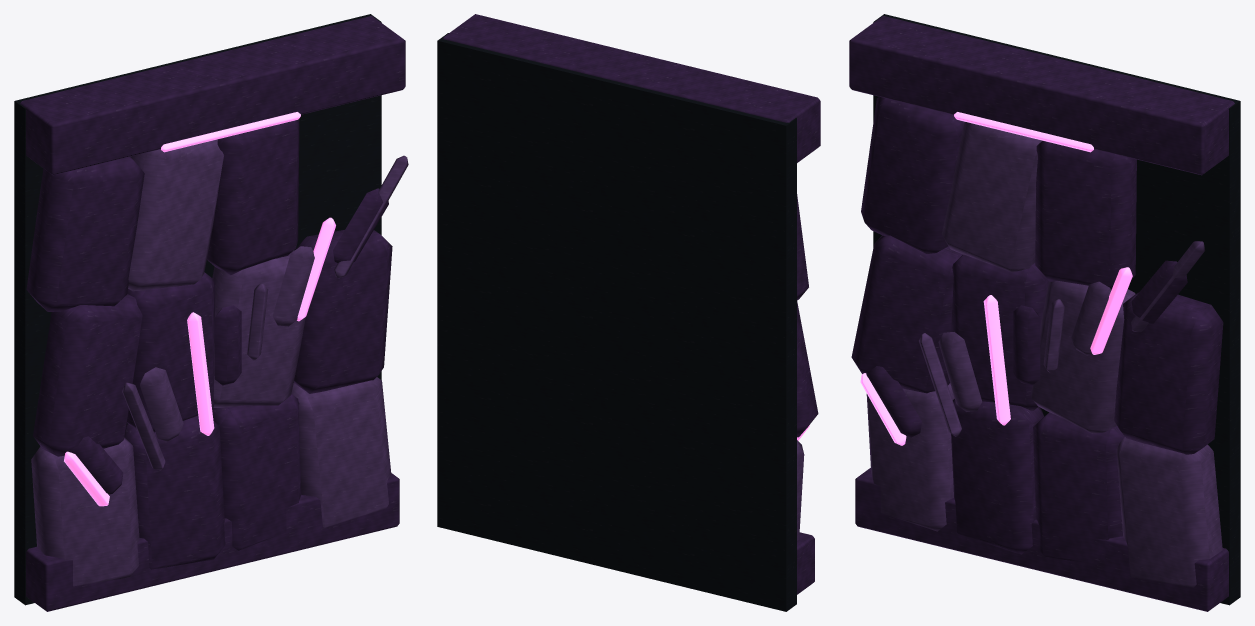
File: riftcore_nexus_room.glb
3 views of the same model, side by side, from view 1: azimuth 30°, elevation 25°; view 2: azimuth 150°, elevation 25°; view 3: azimuth 330°, elevation 25° (orthographic). The views are drawn at different scales.
Parts seen in each view (by area): view 1: riftcore_nexus_room - riftcore_nexus panels, riftcore_nexus_room - riftcore_nexus trim, riftcore_nexus_room - Recessed iron, riftcore_nexus_room - riftcore_nexus accents; view 2: riftcore_nexus_room - Recessed iron, riftcore_nexus_room - riftcore_nexus panels; view 3: riftcore_nexus_room - riftcore_nexus panels, riftcore_nexus_room - riftcore_nexus trim, riftcore_nexus_room - Recessed iron, riftcore_nexus_room - riftcore_nexus accents.
Part boxes in pixels (x1,y1,x2,y2): riftcore_nexus_room - riftcore_nexus panels: (20, 15, 405, 611); riftcore_nexus_room - riftcore_nexus trim: (31, 139, 408, 586); riftcore_nexus_room - Recessed iron: (14, 14, 381, 605); riftcore_nexus_room - riftcore_nexus accents: (64, 112, 335, 506); riftcore_nexus_room - Recessed iron: (437, 33, 796, 611); riftcore_nexus_room - riftcore_nexus panels: (443, 14, 820, 594); riftcore_nexus_room - riftcore_nexus panels: (849, 15, 1234, 611); riftcore_nexus_room - riftcore_nexus trim: (866, 122, 1222, 587); riftcore_nexus_room - Recessed iron: (873, 14, 1240, 605); riftcore_nexus_room - riftcore_nexus accents: (860, 112, 1132, 445).
Size of the model in its own units: 6.06 by 8.03 by 1.19.
4 materials, 3 textured.
